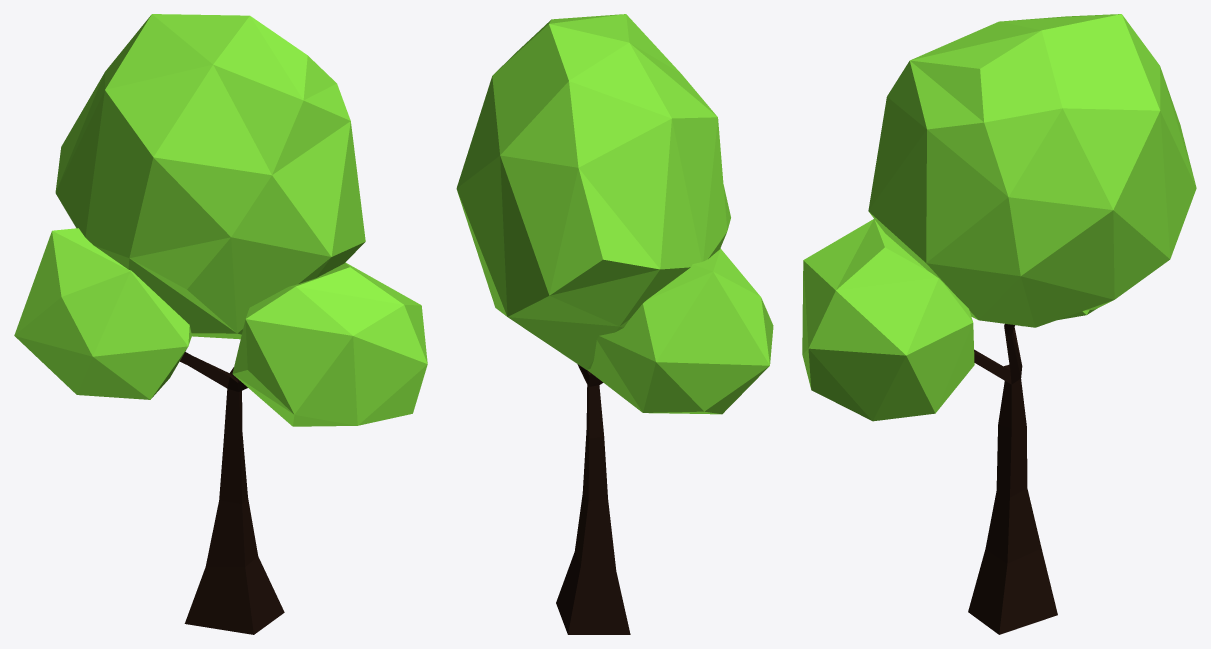
File: tree1.FBX
3 renders of one model, left to right at view 1: azimuth 30°, elevation 25°; view 2: azimuth 150°, elevation 25°; view 3: azimuth 270°, elevation 25°, orthographic. The views are drawn at different scales.
Parts seen in each view (by area): view 1: GeoSphere042, GeoSphere040, GeoSphere041, Box005; view 2: GeoSphere042, GeoSphere041, Box005; view 3: GeoSphere042, GeoSphere040, Box005.
Boxes of the visible parts, x1=… form: GeoSphere042: x1=55, y1=14, x2=365, y2=339; GeoSphere040: x1=232, y1=262, x2=427, y2=426; GeoSphere041: x1=14, y1=228, x2=192, y2=399; Box005: x1=180, y1=352, x2=284, y2=634; GeoSphere042: x1=456, y1=14, x2=730, y2=369; GeoSphere041: x1=587, y1=248, x2=773, y2=414; Box005: x1=556, y1=364, x2=630, y2=634; GeoSphere042: x1=868, y1=14, x2=1196, y2=327; GeoSphere040: x1=802, y1=219, x2=974, y2=421; Box005: x1=968, y1=324, x2=1057, y2=634.
Size of the model in its own units: 13.17 by 22.23 by 13.29.
